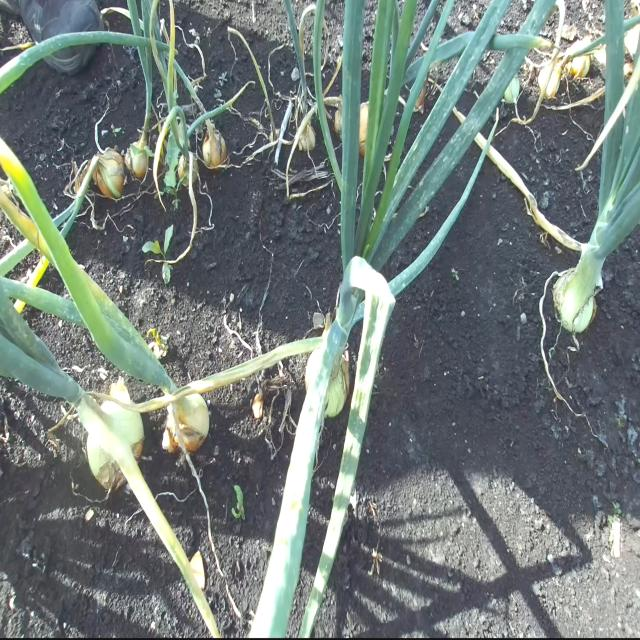onion: (76, 392, 144, 491), (304, 346, 350, 419), (162, 389, 209, 455), (94, 147, 126, 200), (124, 130, 154, 181), (202, 120, 227, 170), (178, 152, 198, 188)
